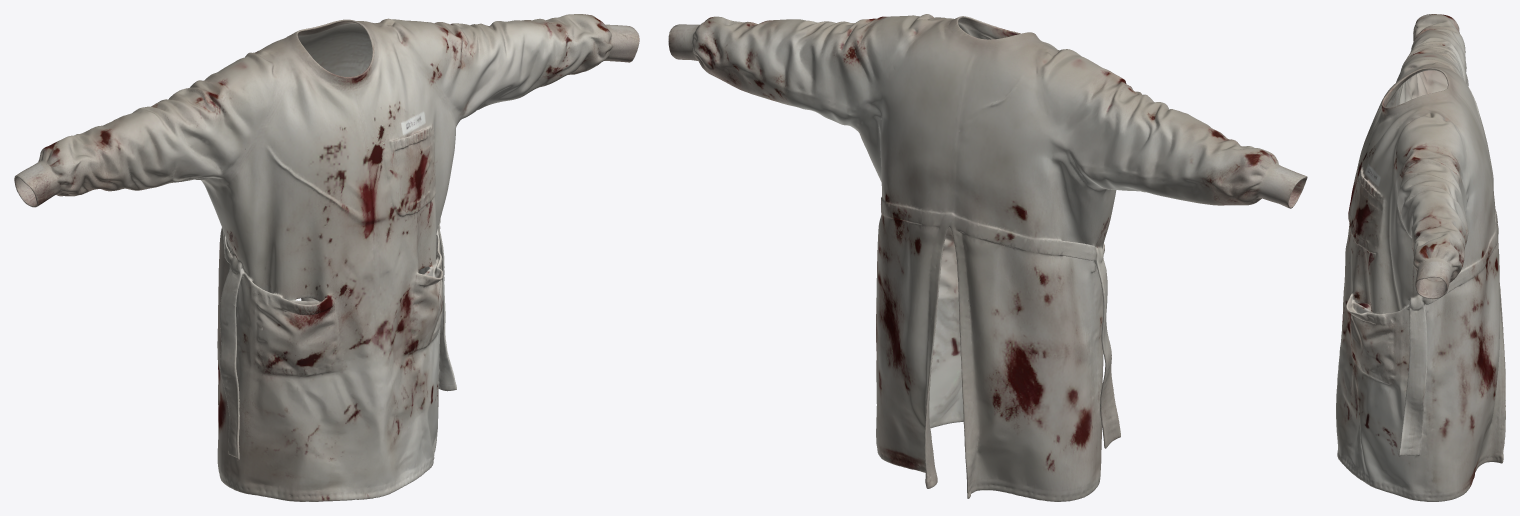
The model's file is Meshy_AI_Crimson_Lab_Coat_in_a_0223141243_texture.fbx.
3 views of the same model, side by side, from view 1: azimuth 30°, elevation 25°; view 2: azimuth 150°, elevation 25°; view 3: azimuth 270°, elevation 25° (orthographic). The views are drawn at different scales.
Parts seen in each view (by area): view 1: Mesh_0; view 2: Mesh_0; view 3: Mesh_0.
Part boxes in pixels (<box>): Mesh_0: <box>14,14,639,501</box>; Mesh_0: <box>668,14,1307,501</box>; Mesh_0: <box>1336,14,1505,501</box>.
Bounding box in the file's own units: 190 × 128 × 51.97.
Materials: 1 (1 with a texture image).
